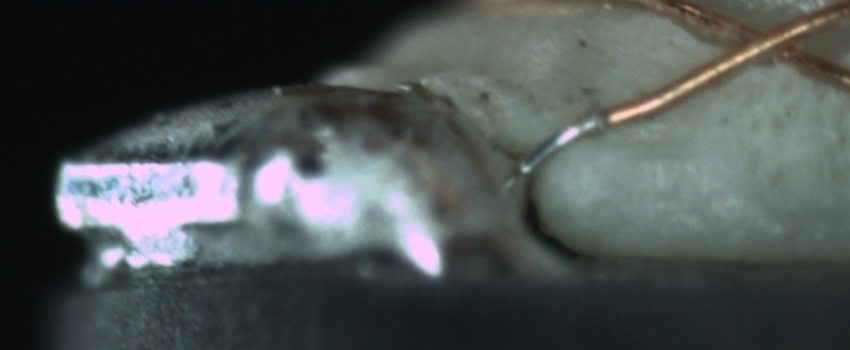CL: (692, 9, 833, 75)
DL: (584, 119, 709, 172)
TS: (520, 112, 610, 176)
TTCW: (520, 98, 647, 178)
